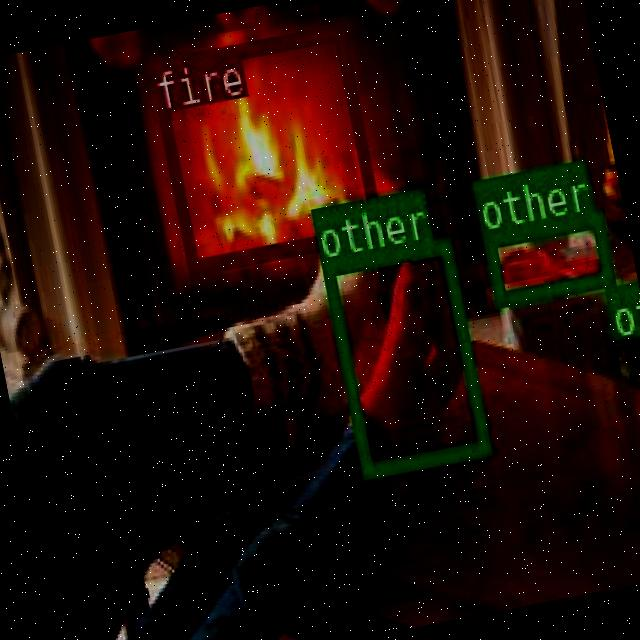fire: (144, 22, 382, 272)
